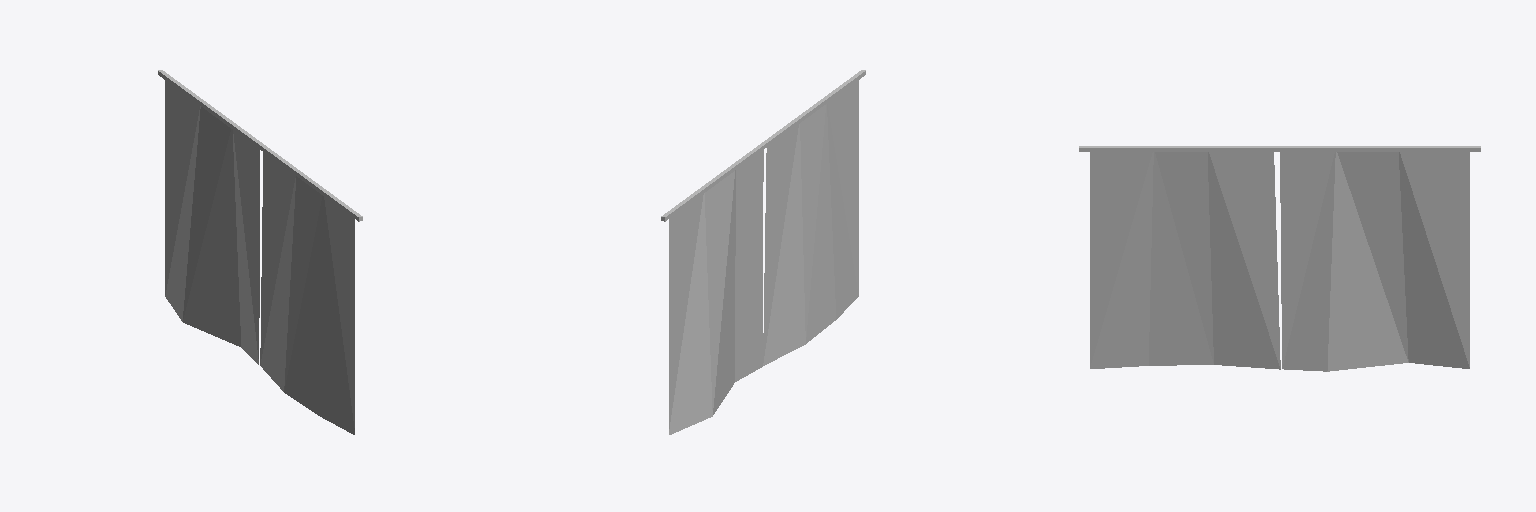
File: window closed.obj
The picture shows the model from 3 angles: view 1: azimuth 30°, elevation 25°; view 2: azimuth 150°, elevation 25°; view 3: azimuth 270°, elevation 25°; orthographic projection.
Parts seen in each view (by area): view 1: Window_2_Plane.005; view 2: Window_2_Plane.005; view 3: Window_2_Plane.005.
Boxes of the visible parts, x1,y1,x2,y2 form: Window_2_Plane.005: [158, 70, 362, 434]; Window_2_Plane.005: [661, 70, 865, 434]; Window_2_Plane.005: [1079, 146, 1480, 371].
Bounding box in the file's own units: 0.2658 × 3.11 × 5.09.